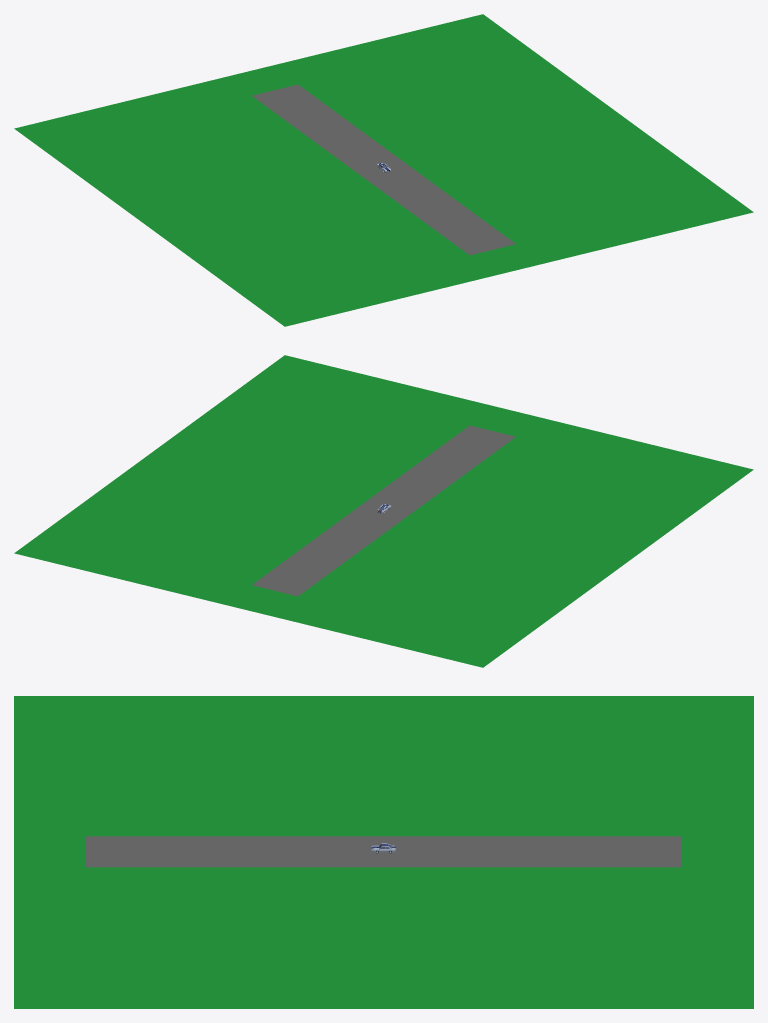
The model's file is vehicle.glb.
3 views of the same model, one above another, from view 1: azimuth 30°, elevation 25°; view 2: azimuth 150°, elevation 25°; view 3: azimuth 270°, elevation 25° (orthographic). The views are drawn at different scales.
Visible parts, largest first — view 1: grassplane, road; view 2: grassplane, road; view 3: grassplane, road.
Part boxes in pixels (x1,y1,x2,y2): grassplane: [14, 14, 753, 326]; road: [252, 84, 515, 255]; grassplane: [14, 355, 753, 667]; road: [252, 425, 515, 596]; grassplane: [14, 696, 753, 1008]; road: [86, 836, 681, 867].
Size of the model in its own units: 183 by 2.31 by 183.
